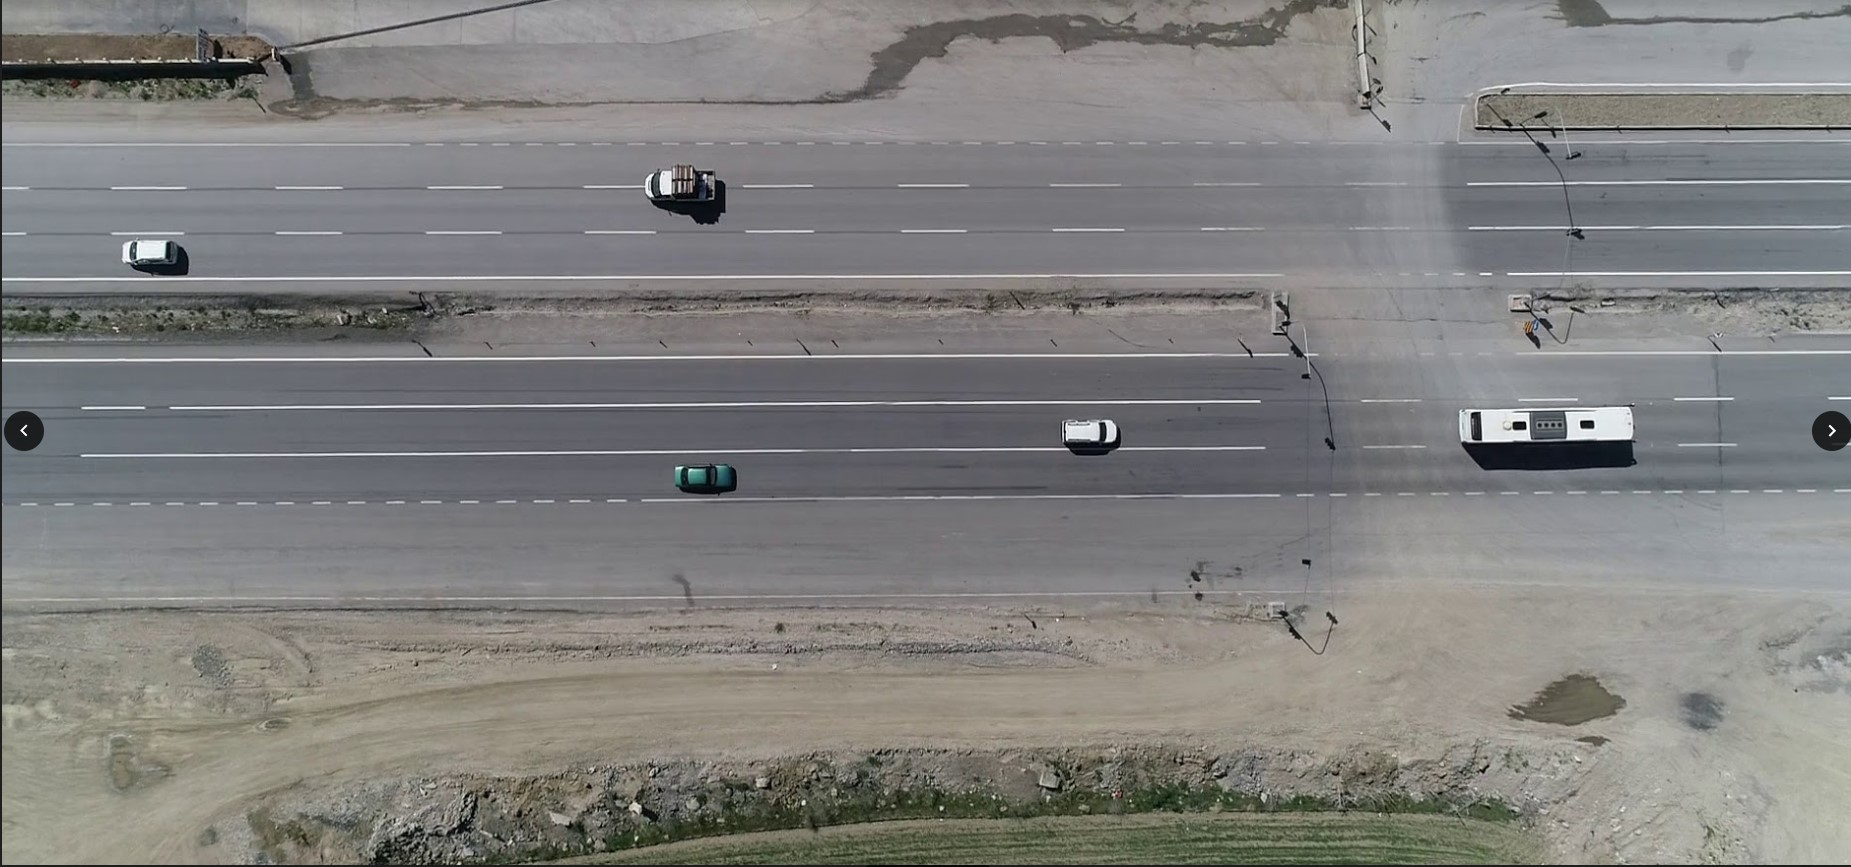araba: (675, 459, 744, 494), (1061, 419, 1121, 454), (122, 237, 181, 269)
kamyonet: (642, 167, 722, 203)
otobus: (1456, 403, 1639, 450)
